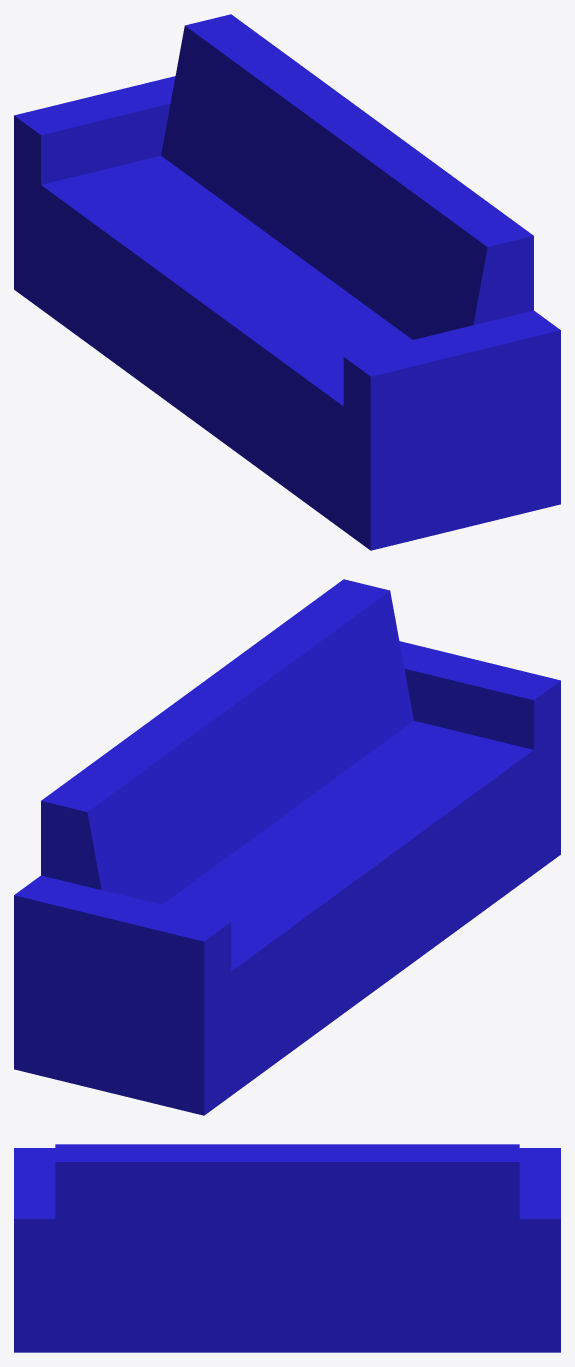
The model's file is sofa.fbx.
3 renders of one model, top to bottom at view 1: azimuth 30°, elevation 25°; view 2: azimuth 150°, elevation 25°; view 3: azimuth 270°, elevation 25°, orthographic. The views are drawn at different scales.
Parts seen in each view (by area): view 1: sofa; view 2: sofa; view 3: sofa.
Part boxes in pixels (left/top/right/bottom): sofa: left=14, top=14, right=560, bottom=550; sofa: left=14, top=579, right=560, bottom=1115; sofa: left=14, top=1144, right=560, bottom=1352.
Bounding box in the file's own units: 80 × 100 × 260.
